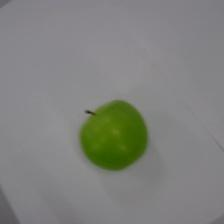green: (78, 98, 149, 171)
